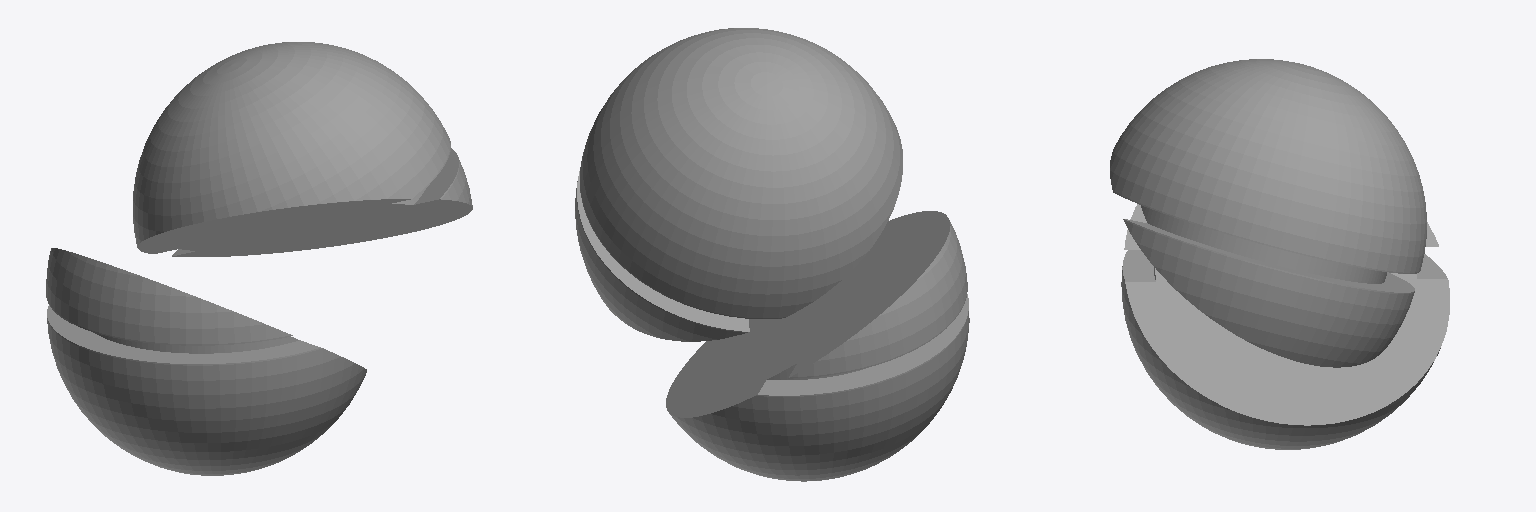
The model's file is Drone166_000006.obj.
3 renders of one model, left to right at view 1: azimuth 30°, elevation 25°; view 2: azimuth 150°, elevation 25°; view 3: azimuth 270°, elevation 25°, orthographic.
Visible parts, largest first — view 1: Sphere.001, Sphere.000_Sphere.002; view 2: Sphere.001, Sphere.000_Sphere.002; view 3: Sphere.001, Sphere.000_Sphere.002.
Boxes of the visible parts, box(x1,y1,x2,y2) form: Sphere.001: box(133, 42, 472, 256); Sphere.000_Sphere.002: box(46, 248, 366, 475); Sphere.001: box(575, 28, 902, 341); Sphere.000_Sphere.002: box(666, 211, 969, 481); Sphere.001: box(1110, 59, 1426, 367); Sphere.000_Sphere.002: box(1121, 204, 1449, 449).
Bounding box in the file's own units: 2.54 × 2.62 × 2.05.